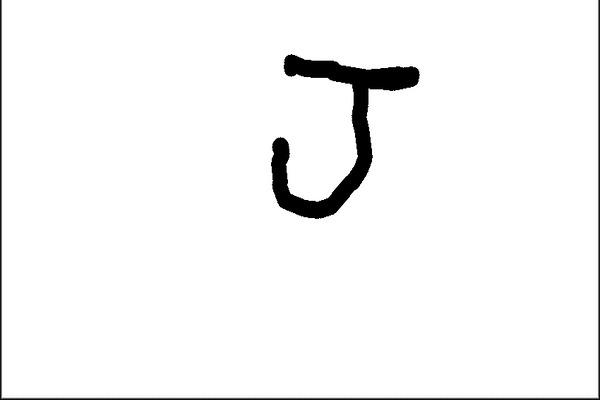J: (260, 47, 427, 221)
